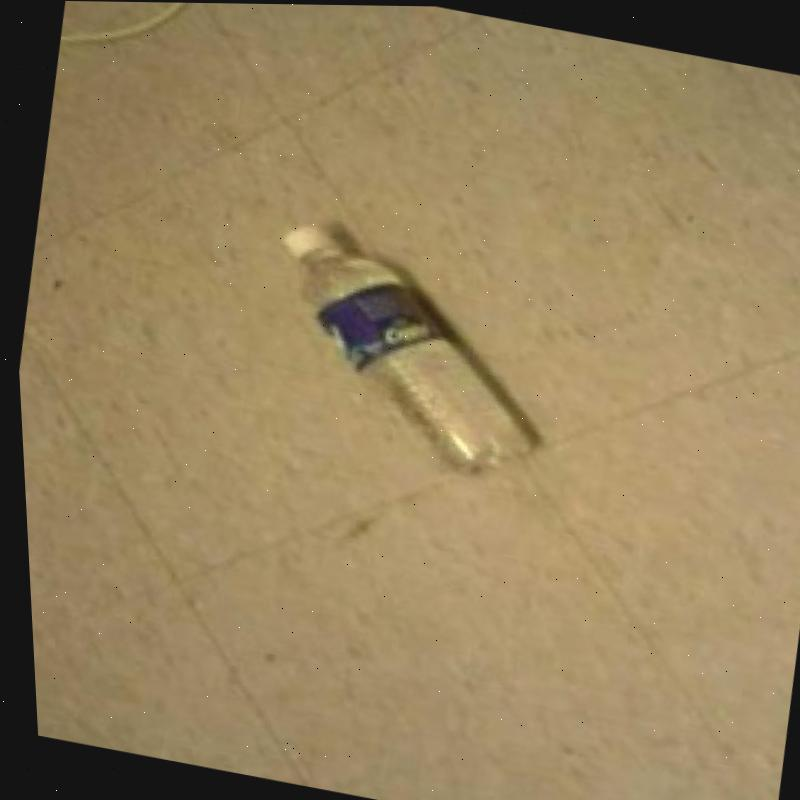botella: (244, 214, 563, 484)
